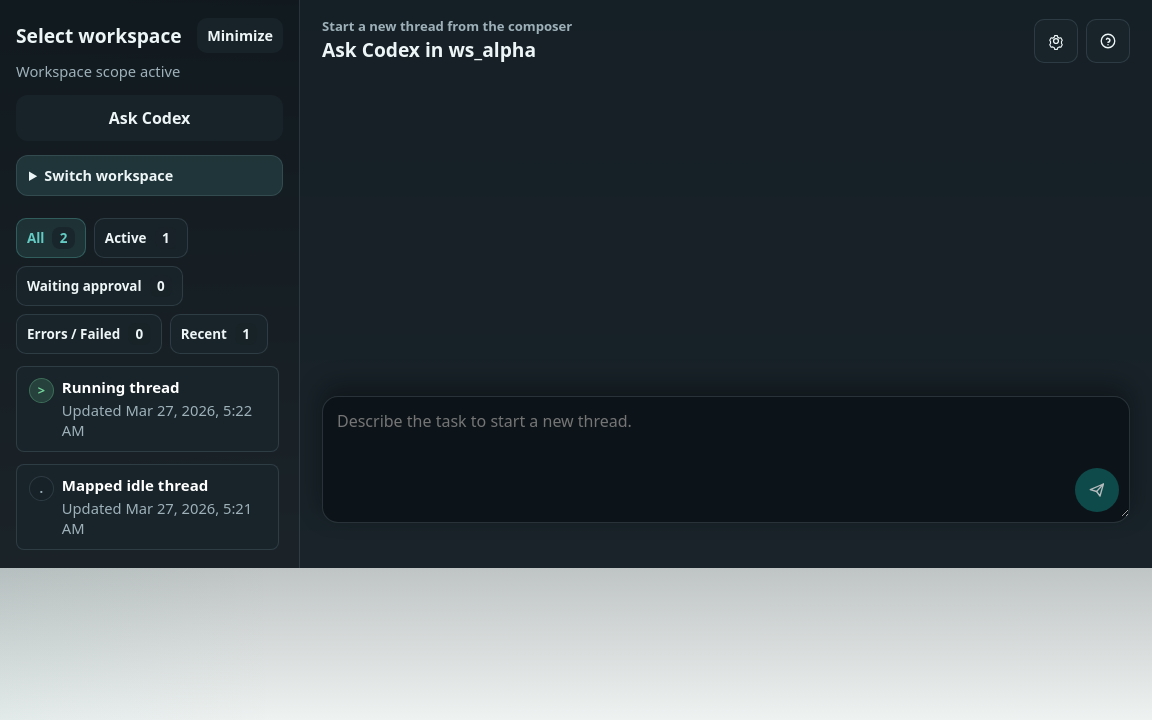
Test: ChatView navigation › treats a normal waiting-input thread with no resume cue as Recent
Click the tab "Recent 1": x=219, y=334 [170, 314, 268, 354]
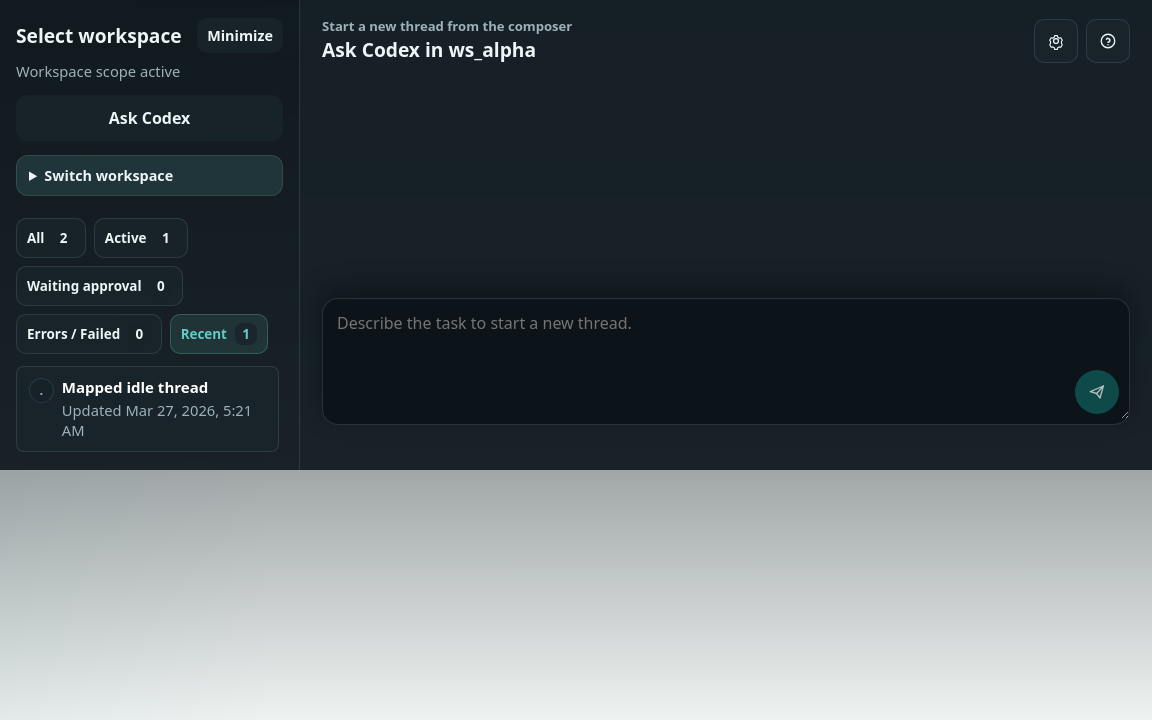
expect the text "Mapped idle thread" is shown: met, box [62, 377, 208, 397]
expect the text "Running thread" is gone: met
